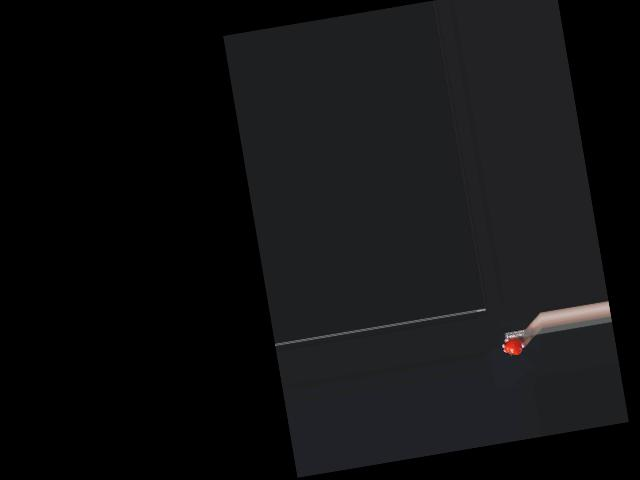tomato: (503, 336, 523, 356)
